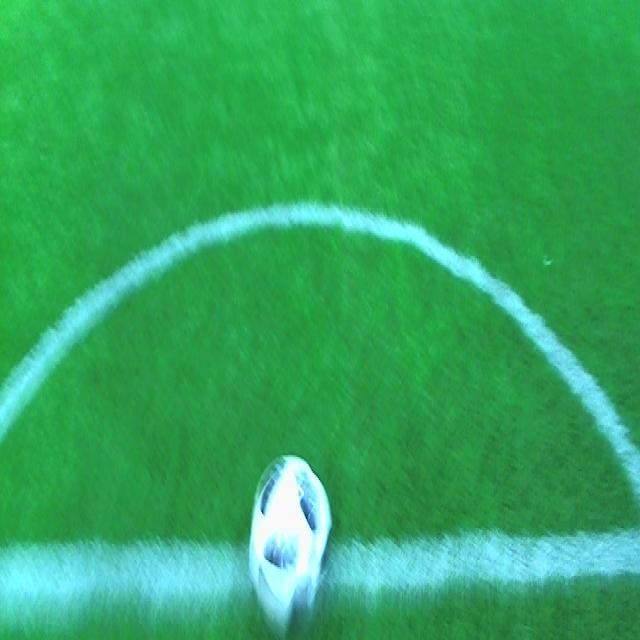ball: (249, 455, 333, 628)
